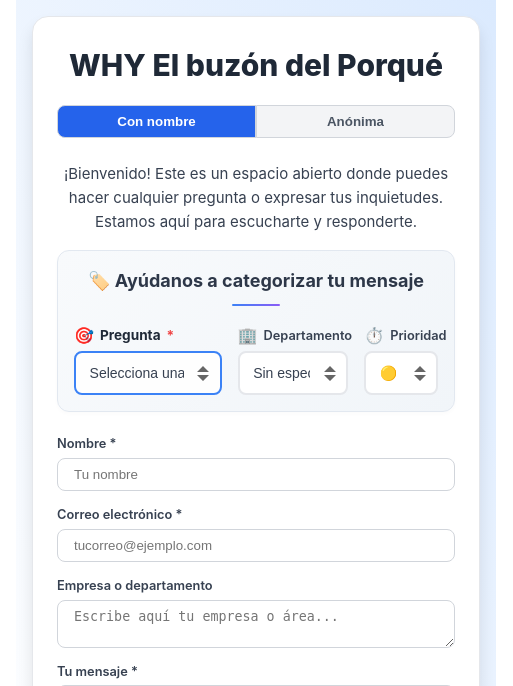
Scenario: InicioPlataformaWhy › Validaciones de campos › Validación de nombre › debe validar nombre muy corto
The width and height of the screenshot is (513, 686).
Type "A" into the field with placeholder "Tu nombre". click: [256, 475]
box: [57,458,455,491]
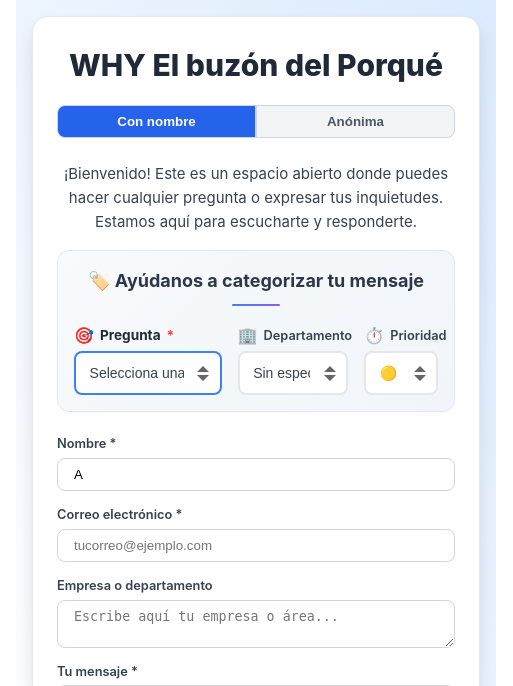
Leave the field with placeholder "Tu nombre", box [57,458,455,491]
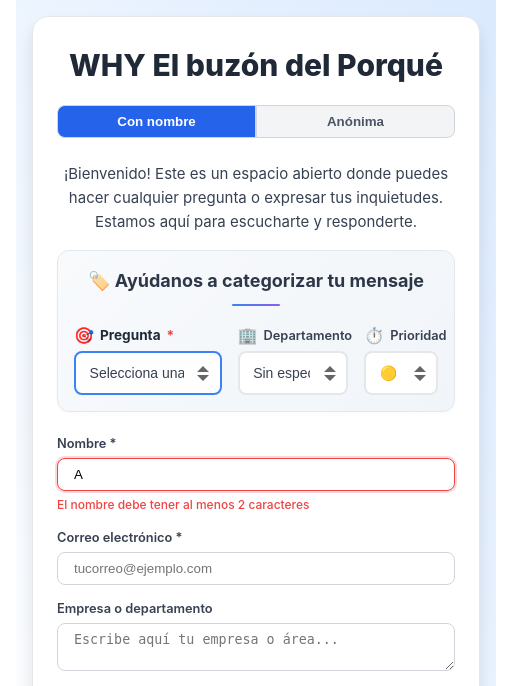
Now the text "El nombre debe tener al menos 2 caracteres" is shown, box [57,497,310,512]
